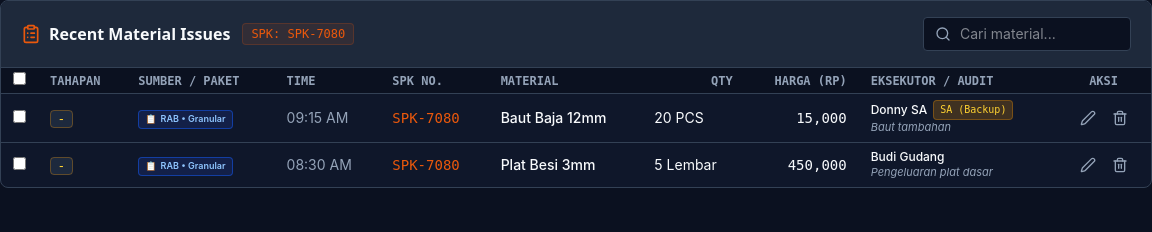
Component: RecentMaterialIssues › filters material rows reactively when typing in the search box
The width and height of the screenshot is (1152, 232).
Check: the text "Plat Besi 3mm" is shown, box [489,142,642,187]
Check: the text "Baut Baja 12mm" is shown, box [489,94,642,142]
Type "Baut" into the field with placeholder "Cari material..." at (1027, 34), box [923,17,1131,51]
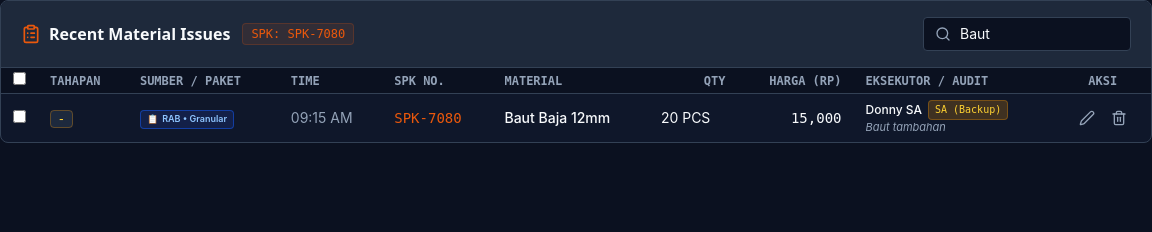
Check: the text "Baut Baja 12mm" is shown, box [492,94,649,142]
Check: the text "Plat Besi 3mm" is gone
Query non-matching
Replace the text in the field with placeholder "Cari material..." with "Cat Epoxy" at (1027, 34), box [923,17,1131,51]
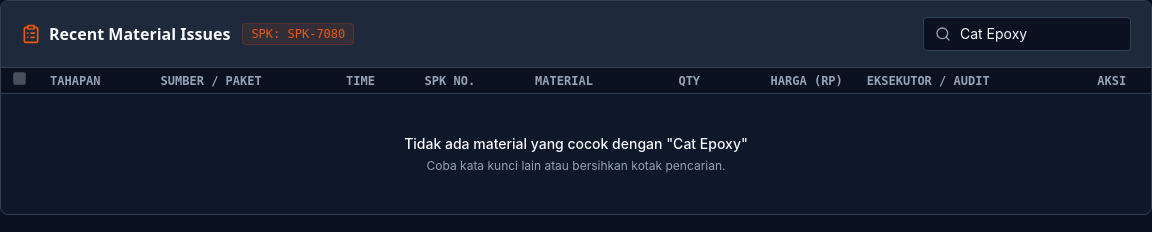
Check: the text "Tidak ada material yang cocok dengan \"Cat Epoxy\"" is shown, box [404,135,748,152]
